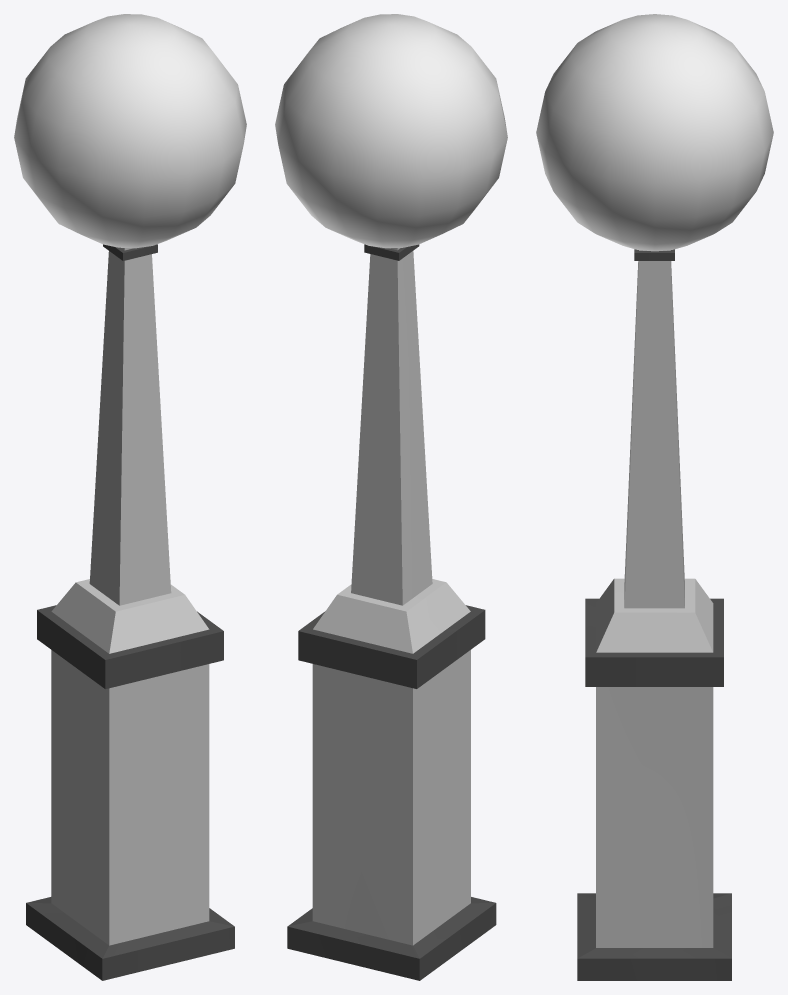
The model's file is Streetlight_v3.FBX.
The picture shows the model from 3 angles, left to right: view 1: azimuth 30°, elevation 25°; view 2: azimuth 150°, elevation 25°; view 3: azimuth 270°, elevation 25°; orthographic projection.
Parts seen in each view (by area): view 1: Streetlight_v3; view 2: Streetlight_v3; view 3: Streetlight_v3.
Part boxes in pixels (x1=…): Streetlight_v3: x1=14, y1=14, x2=246, y2=980; Streetlight_v3: x1=275, y1=14, x2=507, y2=980; Streetlight_v3: x1=536, y1=14, x2=773, y2=980.
Bounding box in the file's own units: 93.07 × 399 × 93.07.
